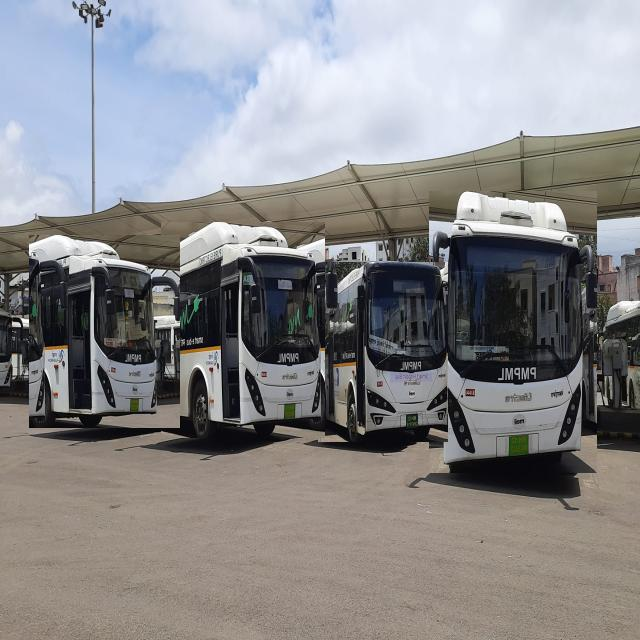bus: (430, 191, 597, 473), (161, 222, 325, 438), (30, 235, 180, 428), (319, 262, 448, 442)
